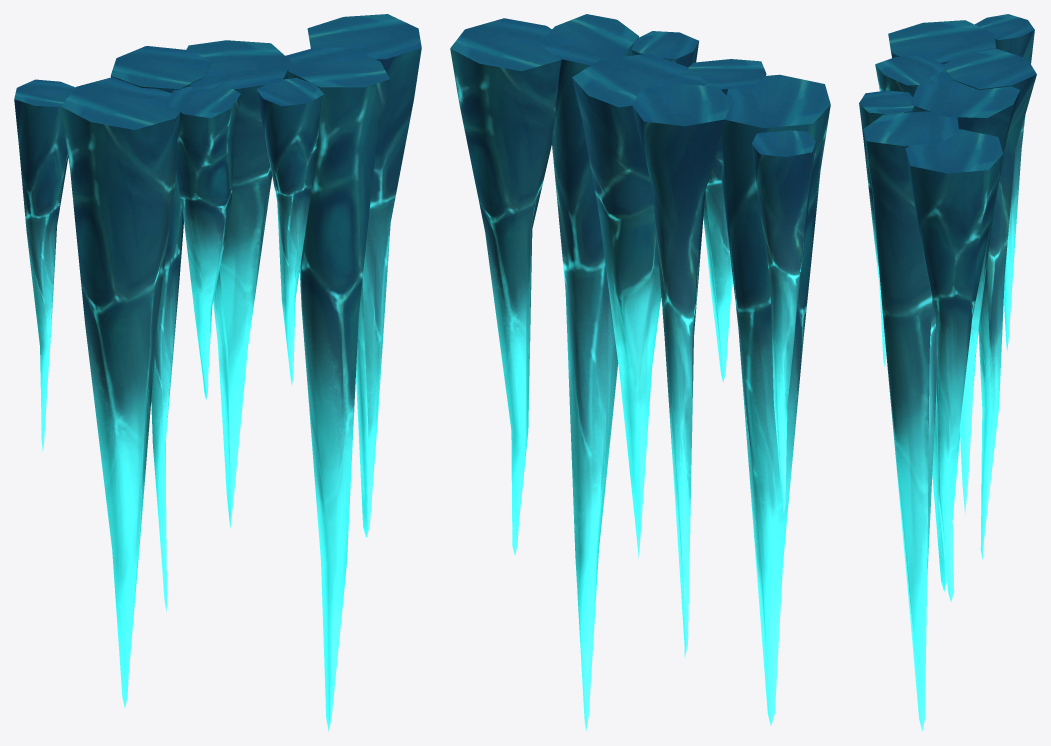
The model's file is P_ENV_icicle_04.gltf.
3 views of the same model, side by side, from view 1: azimuth 30°, elevation 25°; view 2: azimuth 150°, elevation 25°; view 3: azimuth 270°, elevation 25° (orthographic). The views are drawn at different scales.
Visible parts, largest first — view 1: P_ENV_icicle_04(Clone); view 2: P_ENV_icicle_04(Clone); view 3: P_ENV_icicle_04(Clone).
Boxes of the visible parts, x1=… form: P_ENV_icicle_04(Clone): x1=14, y1=14, x2=421, y2=731; P_ENV_icicle_04(Clone): x1=450, y1=14, x2=830, y2=731; P_ENV_icicle_04(Clone): x1=859, y1=14, x2=1036, y2=731.
Bounding box in the file's own units: 0.9668 × 1.67 × 0.4439.
1 material, 1 textured.
